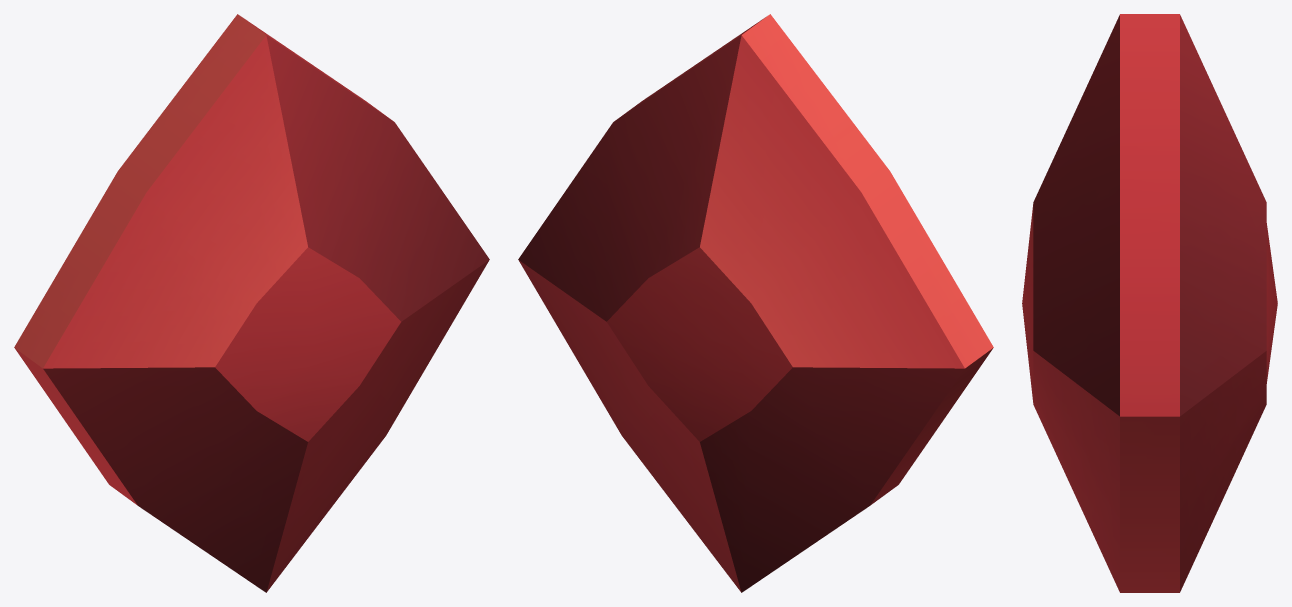
Rendered from gem_wizard.fbx.
The picture shows the model from 3 angles, left to right: view 1: azimuth 30°, elevation 25°; view 2: azimuth 150°, elevation 25°; view 3: azimuth 270°, elevation 25°; orthographic projection. The views are drawn at different scales.
Parts seen in each view (by area): view 1: gem_wizard; view 2: gem_wizard; view 3: gem_wizard.
Part boxes in pixels (bbox=[...]): gem_wizard: bbox=[14, 14, 489, 592]; gem_wizard: bbox=[518, 14, 993, 592]; gem_wizard: bbox=[1022, 14, 1277, 592].
Size of the model in its own units: 31.6 by 37.69 by 15.09.
